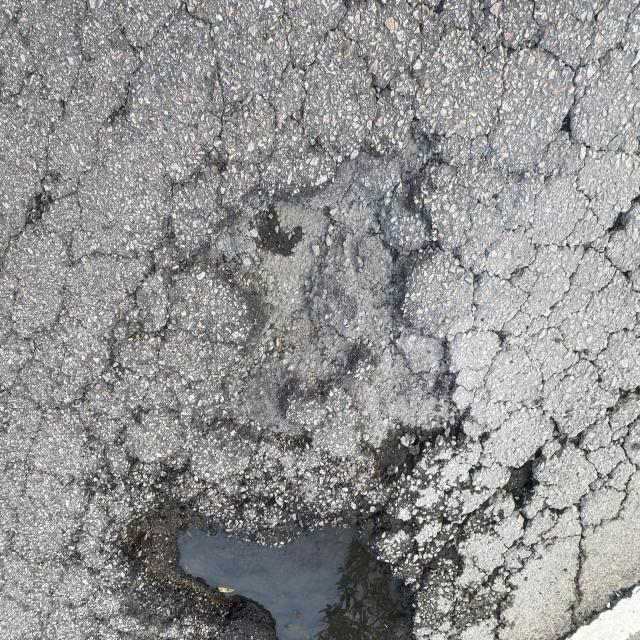pothole: (87, 400, 479, 640), (231, 95, 514, 405)
